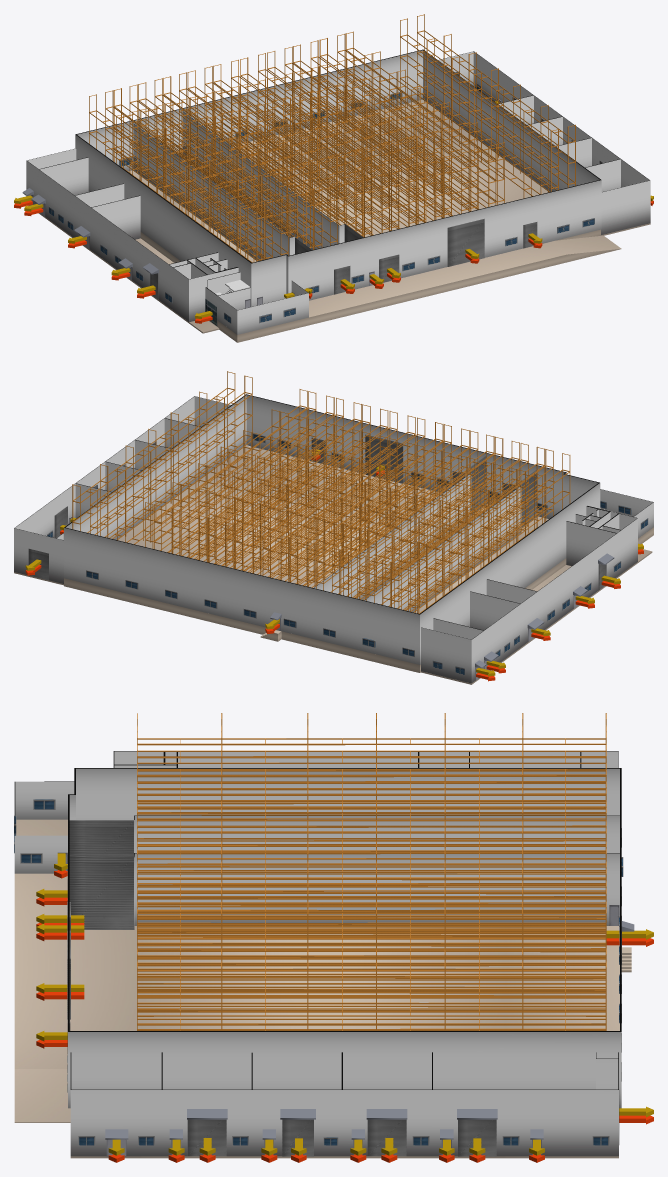
File: soulbrain_T3-5-1F.glb
3 views of the same model, one above another, from view 1: azimuth 30°, elevation 25°; view 2: azimuth 150°, elevation 25°; view 3: azimuth 270°, elevation 25° (orthographic). The views are drawn at different scales.
Visible parts, largest first — view 1: Line017, T3-5-1F, Line001, Box190, Box183, Box200; view 2: Line017, T3-5-1F, Line001, Box190, Box183; view 3: Line017, T3-5-1F, Line001, Box190, Box183, Box200.
Boxes of the visible parts, box(x1,y1,x2,y2) form: Line017: box(26, 49, 650, 334); T3-5-1F: box(22, 14, 575, 274); Line001: box(28, 99, 650, 342); Box190: box(150, 71, 603, 299); Box183: box(48, 83, 594, 323); Box200: box(30, 99, 501, 326); Line017: box(14, 394, 653, 683); T3-5-1F: box(72, 371, 614, 668); Line001: box(14, 445, 653, 684); Box190: box(28, 434, 606, 590); Box183: box(47, 433, 648, 674); Line017: box(14, 751, 621, 1156); T3-5-1F: box(105, 713, 634, 1139); Line001: box(14, 819, 631, 1158); Box190: box(67, 820, 619, 1156); Box183: box(14, 799, 623, 1146); Box200: box(58, 852, 621, 1156).
Bounding box in the file's own units: 76.93 × 14.75 × 56.8.
Materials: 19 (16 with a texture image).
